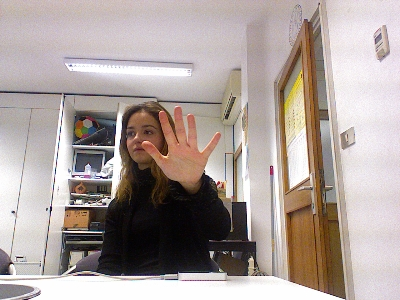布: (142, 105, 222, 185)
